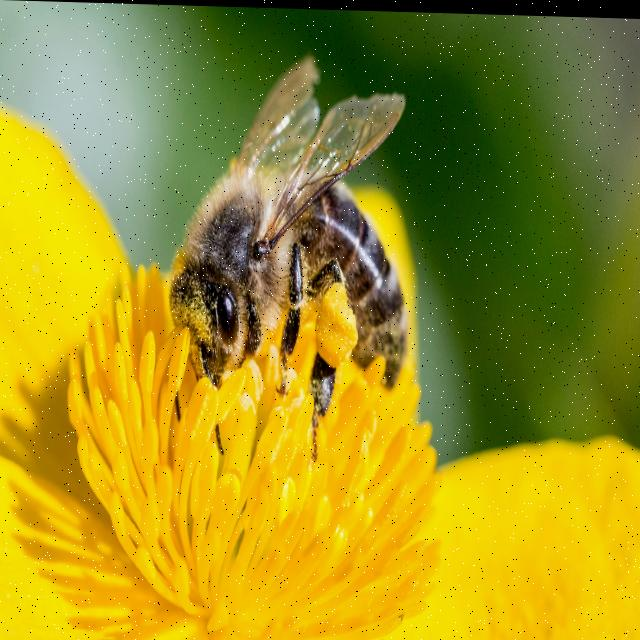Lasioglossum: (150, 35, 425, 484)
